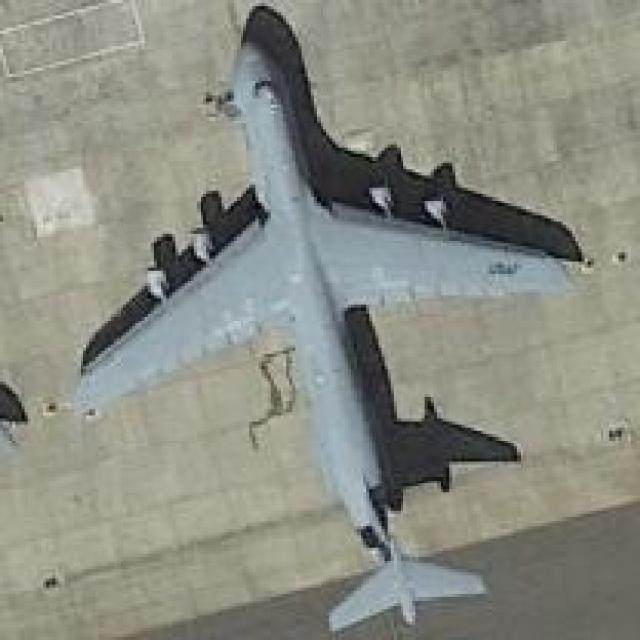C-5_TopDown: (67, 9, 581, 633)
